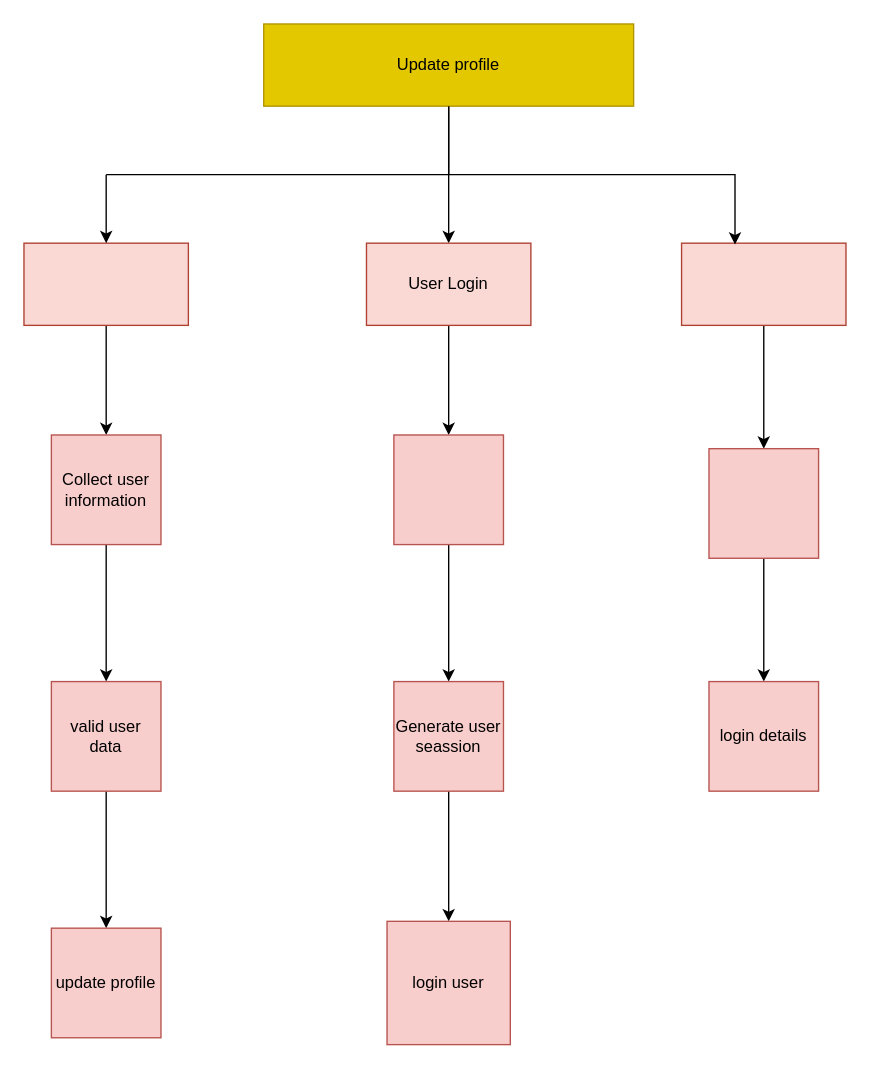
This 870x1069 diagram has some shape labels left out. Here are the shapes that lost their labels. From the top down, the box of each, then its label:
(23, 242, 188, 325): User
(680, 242, 846, 325): Authentication
(393, 434, 503, 545): user credintalis
(708, 447, 819, 558): password
